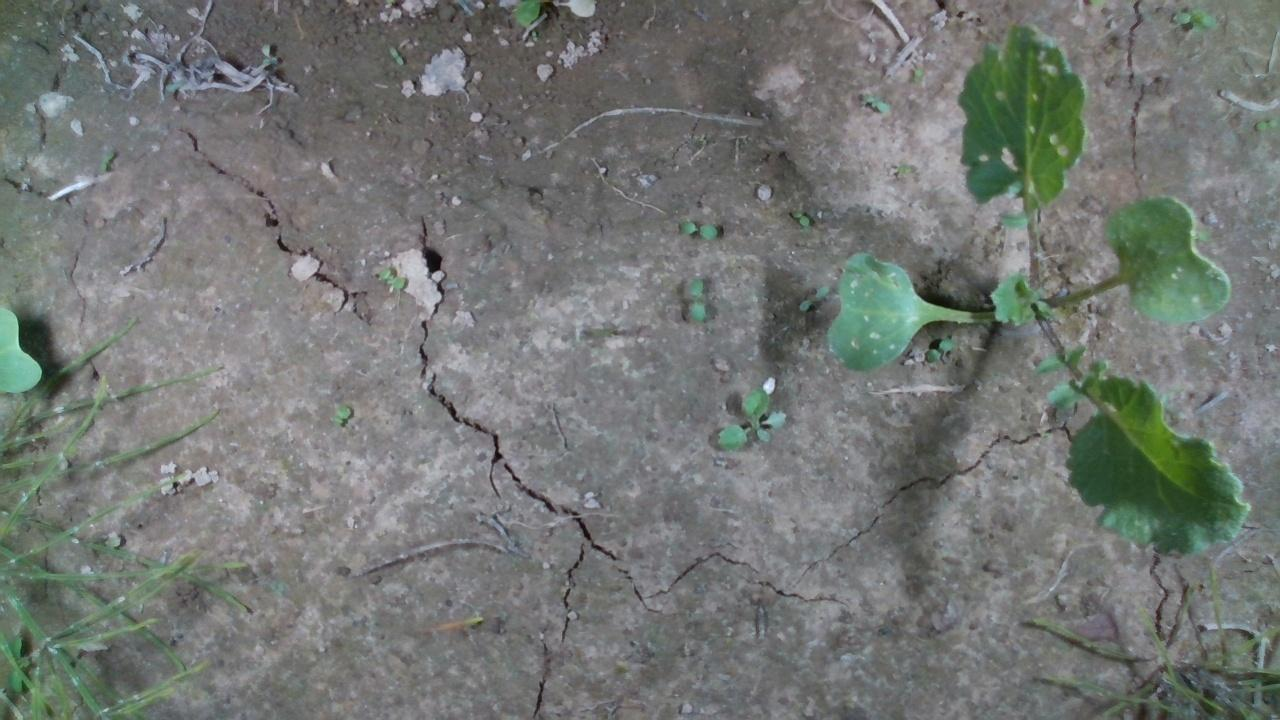weed: (714, 387, 788, 452), (1168, 4, 1218, 32), (684, 276, 707, 324), (920, 334, 956, 364), (676, 217, 718, 239), (796, 283, 830, 310), (859, 91, 890, 115), (376, 265, 405, 289), (328, 402, 351, 424), (786, 208, 810, 228), (1252, 115, 1278, 132), (97, 148, 115, 172), (386, 42, 403, 66)
